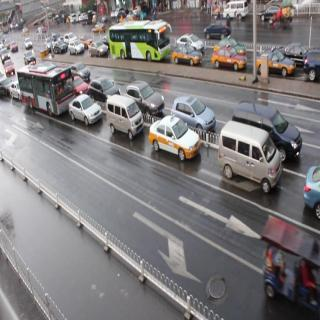BigCar: (14, 64, 73, 123), (110, 22, 170, 64)
Car: (213, 114, 286, 205), (234, 100, 306, 160), (150, 115, 208, 169), (105, 91, 149, 155), (174, 94, 219, 136), (127, 80, 169, 119), (253, 46, 298, 81), (69, 94, 99, 129), (210, 44, 247, 72), (304, 163, 320, 225), (87, 74, 123, 98), (171, 44, 203, 69), (204, 16, 234, 42), (259, 2, 289, 24), (90, 37, 114, 62), (225, 0, 248, 24), (306, 47, 320, 84), (68, 40, 87, 56)
